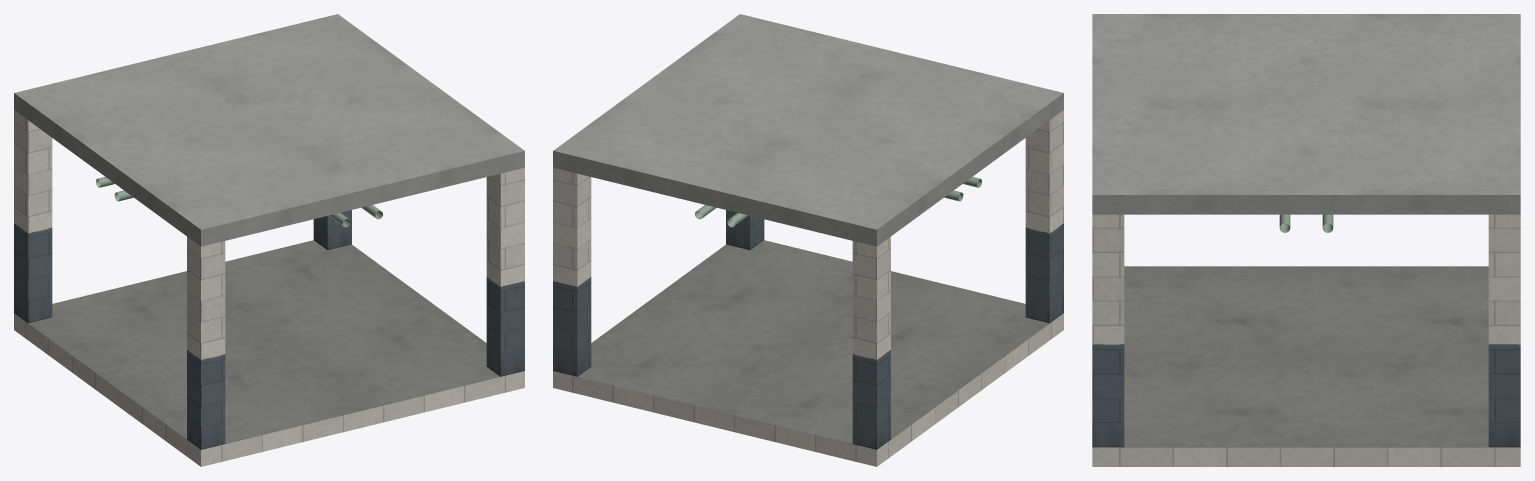
File: Corridor_Basement_Cross.glb
3 renders of one model, left to right at view 1: azimuth 30°, elevation 25°; view 2: azimuth 150°, elevation 25°; view 3: azimuth 270°, elevation 25°, orthographic. The views are drawn at different scales.
Parts seen in each view (by area): view 1: Corridor_Basement_Cross, Corridor_Basement_Cross_Ceiling; view 2: Corridor_Basement_Cross, Corridor_Basement_Cross_Ceiling; view 3: Corridor_Basement_Cross, Corridor_Basement_Cross_Ceiling.
Boxes of the visible parts, box(x1,y1,x2,y2) form: Corridor_Basement_Cross: box(14, 110, 524, 466); Corridor_Basement_Cross_Ceiling: box(14, 14, 524, 246); Corridor_Basement_Cross: box(553, 110, 1063, 466); Corridor_Basement_Cross_Ceiling: box(553, 14, 1063, 246); Corridor_Basement_Cross: box(1092, 214, 1520, 466); Corridor_Basement_Cross_Ceiling: box(1092, 14, 1520, 232).
Size of the model in its own units: 4 by 2.8 by 4.
Materials: 6 (3 with a texture image).
